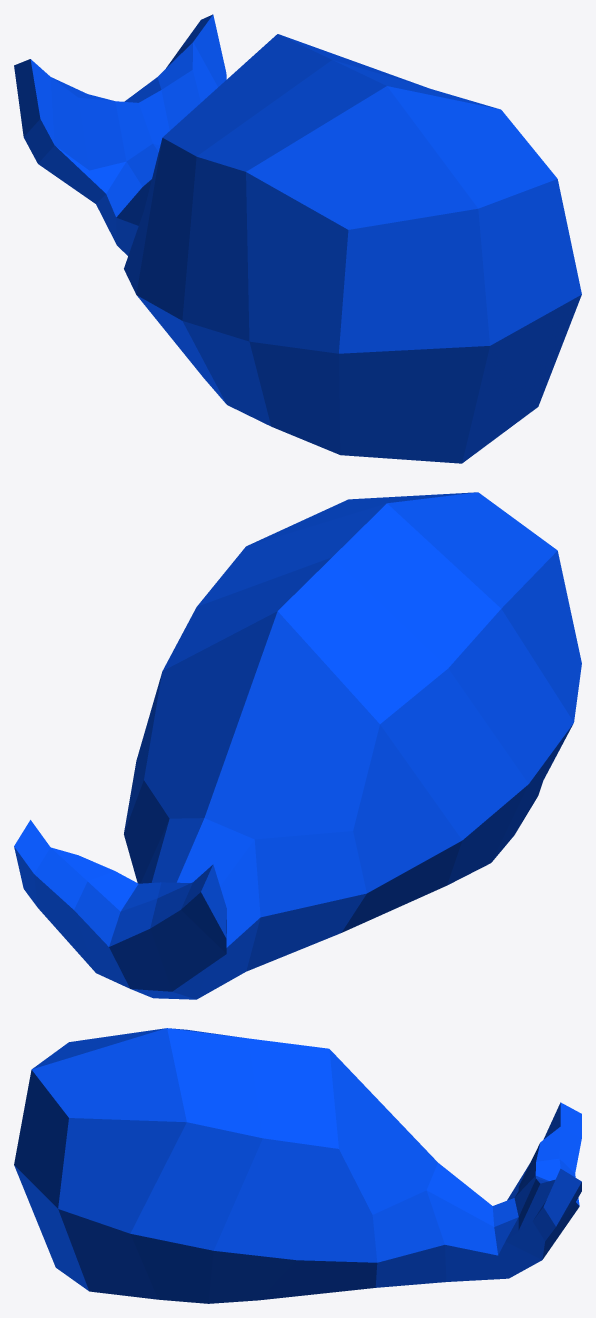
The model's file is study_stuffedToy_whale_meshCollider.fbx.
3 views of the same model, one above another, from view 1: azimuth 30°, elevation 25°; view 2: azimuth 150°, elevation 25°; view 3: azimuth 270°, elevation 25° (orthographic). The views are drawn at different scales.
Visible parts, largest first — view 1: study_stuffedToy_whale_meshCollider; view 2: study_stuffedToy_whale_meshCollider; view 3: study_stuffedToy_whale_meshCollider.
Boxes of the visible parts, left/top/right/bottom form: study_stuffedToy_whale_meshCollider: left=14, top=14, right=581, bottom=463; study_stuffedToy_whale_meshCollider: left=14, top=492, right=581, bottom=999; study_stuffedToy_whale_meshCollider: left=14, top=1028, right=581, bottom=1303.
Bounding box in the file's own units: 13.85 × 12.77 × 26.49.
